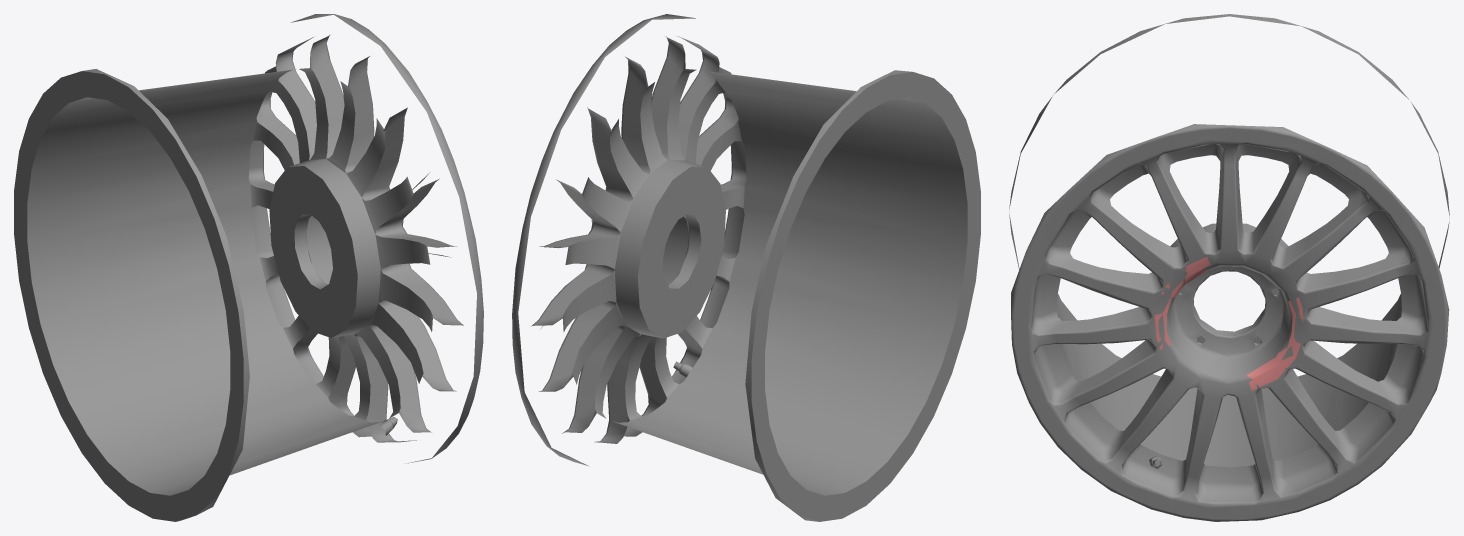
Rendered from lamborghini_gallardo_rex_rim_lf_Lod1.gltf.
3 views of the same model, side by side, from view 1: azimuth 30°, elevation 25°; view 2: azimuth 150°, elevation 25°; view 3: azimuth 270°, elevation 25° (orthographic). The views are drawn at different scales.
Visible parts, largest first — view 1: lamborghini_gallardo_rex_rim_lf_Lod1; view 2: lamborghini_gallardo_rex_rim_lf_Lod1; view 3: lamborghini_gallardo_rex_rim_lf_Lod1.
Part boxes in pixels (bbox=[...]): lamborghini_gallardo_rex_rim_lf_Lod1: bbox=[14, 14, 483, 521]; lamborghini_gallardo_rex_rim_lf_Lod1: bbox=[512, 14, 980, 521]; lamborghini_gallardo_rex_rim_lf_Lod1: bbox=[1009, 14, 1449, 521].
Size of the model in its own units: 0.3035 by 0.5032 by 0.5052.
